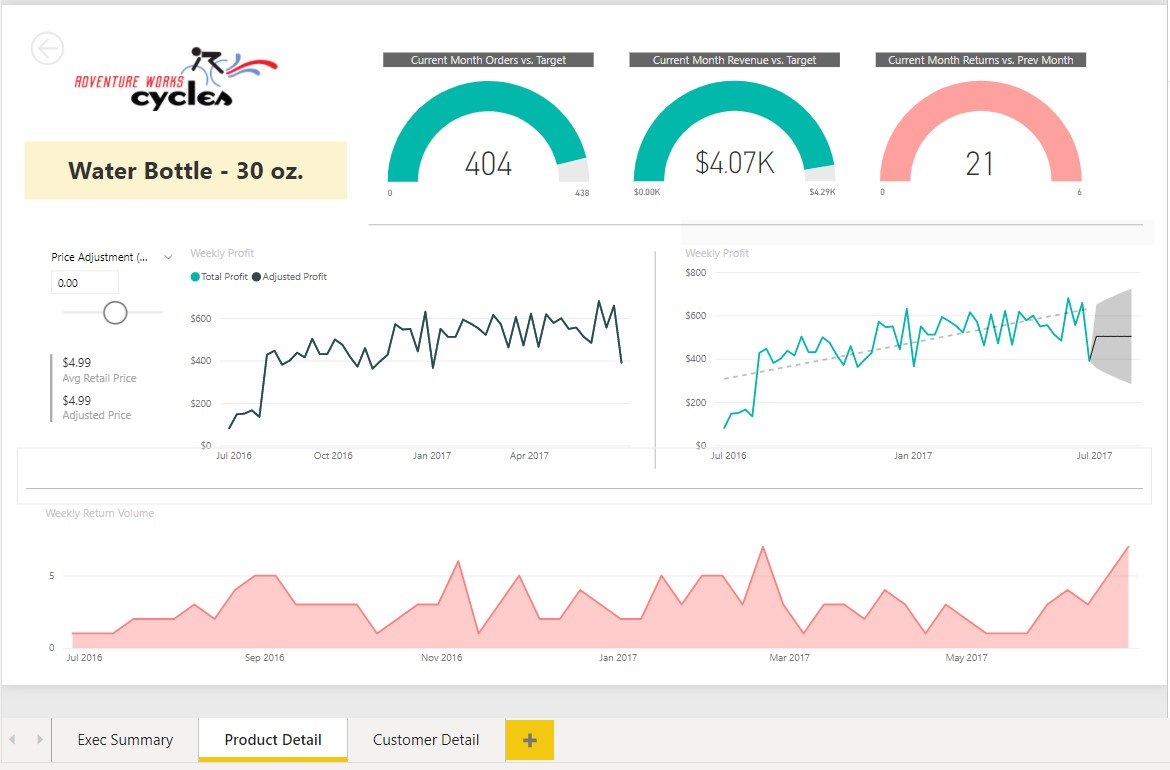

What the dashboard file says about the page in this screenshot:
{"tool":"powerbi","page":{"name":"Product Detail","canvas":[1280,720],"ordinal":1},"visuals":[{"type":"lineChart","title":"Weekly Profit","fields":{"Y":["AW_Sales.Total Profit"],"Category":["AW_Calendar_Lookup.Start of Week"]},"box":[746.3,236.8,520,248.2],"z":0},{"type":"areaChart","title":"Weekly Return Volume","fields":{"Category":["AW_Calendar_Lookup.Start of Week"],"Y":["AW_Returns.Total Returns"]},"box":[42.3,521.6,1223.9,185.3],"z":1000},{"type":"lineChart","title":"Weekly Profit","fields":{"Y":["AW_Sales.Total Profit","AW_Sales.Adjusted Profit"],"Category":["AW_Calendar_Lookup.Start of Week"]},"box":[201.3,235.6,506.1,248.2],"z":2000},{"type":"gauge","title":"Current Month Orders vs. Target","fields":{"Y":["AW_Sales.Total Orders"],"MaxValue":["AW_Sales.Order Target"]},"box":[418.7,24.9,231.3,178],"z":3000},{"type":"gauge","title":"Current Month Revenue vs. Target","fields":{"Y":["AW_Sales.Total Revenue"],"MaxValue":["AW_Sales.Revenue Target"]},"box":[689.3,24.9,231.1,177.3],"z":4000},{"type":"gauge","title":"Current Month Returns vs. Prev Month","fields":{"Y":["AW_Returns.Total Returns"],"MaxValue":["AW_Returns.Prev Month Returns"]},"box":[959.7,24.9,231.1,177.3],"z":5000},{"type":"card","fields":{"Values":["Min(AW_Product_Lookup.ProductName)"]},"box":[25.2,122.4,354.6,64.1],"z":6000},{"type":"slicer","fields":{"Values":["Price Adjustment (%).Price Adjustment (%)"]},"box":[41.2,235.6,159,109.8],"z":7000},{"type":"multiRowCard","fields":{"Values":["AW_Product_Lookup.Avg Retail Price","AW_Product_Lookup.Adjusted Price"]},"box":[48.3,351.2,152.1,106.4],"z":8000},{"type":"basicShape","box":[656.6,233.4,122.4,258.5],"z":9000},{"type":"basicShape","box":[393,196.7,870.7,35.5],"z":10000},{"type":"basicShape","box":[17.2,485.9,1246.8,35.5],"z":11000},{"type":"image","box":[73,14,240.2,80.1],"z":12000},{"type":"basicShape","box":[0,0,100,40],"z":13000}]}

Visuals, with their boxes on the page's 1280x720 design canvas (x1, y1, x2, y2). These are canvas units, not pixel positions in the 1170x770 screenshot, which may show the page scaled, cropped or inside an application window:
"Weekly Profit" lineChart: left=746, top=237, right=1266, bottom=485
"Weekly Return Volume" areaChart: left=42, top=522, right=1266, bottom=707
"Weekly Profit" lineChart: left=201, top=236, right=707, bottom=484
"Current Month Orders vs. Target" gauge: left=419, top=25, right=650, bottom=203
"Current Month Revenue vs. Target" gauge: left=689, top=25, right=920, bottom=202
"Current Month Returns vs. Prev Month" gauge: left=960, top=25, right=1191, bottom=202
card - Min(AW_Product_Lookup.ProductName): left=25, top=122, right=380, bottom=186
slicer - Price Adjustment (%).Price Adjustment (%): left=41, top=236, right=200, bottom=345
multiRowCard - AW_Product_Lookup.Avg Retail Price x AW_Product_Lookup.Adjusted Price: left=48, top=351, right=200, bottom=458
basicShape: left=657, top=233, right=779, bottom=492
basicShape: left=393, top=197, right=1264, bottom=232
basicShape: left=17, top=486, right=1264, bottom=521
image: left=73, top=14, right=313, bottom=94
basicShape: left=0, top=0, right=100, bottom=40
